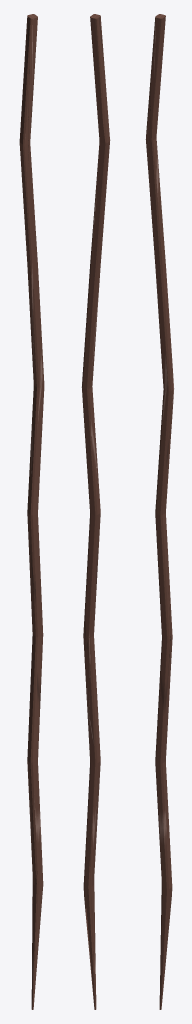
The picture shows the model from 3 angles, left to right: view 1: azimuth 30°, elevation 25°; view 2: azimuth 150°, elevation 25°; view 3: azimuth 330°, elevation 25°; orthographic projection.
Visible parts, largest first — view 1: Cube; view 2: Cube; view 3: Cube.
Part boxes in pixels (left/top/right/bottom): Cube: left=19, top=14, right=44, bottom=1009; Cube: left=81, top=14, right=110, bottom=1009; Cube: left=145, top=14, right=174, bottom=1009.
Bounding box in the file's own units: 181 × 7368 × 88.67.
Materials: 1 (1 with a texture image).
